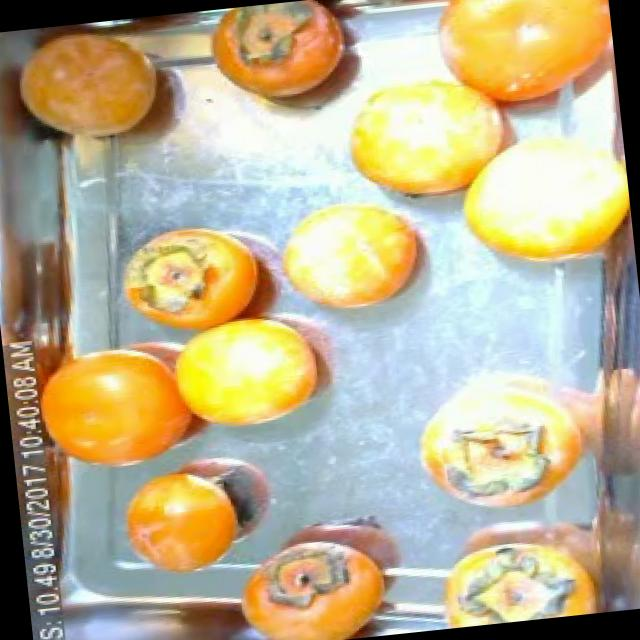Fruit: (321, 42, 537, 220), (17, 329, 228, 491), (92, 196, 309, 350), (255, 180, 444, 330), (0, 15, 186, 161), (104, 456, 262, 591)
